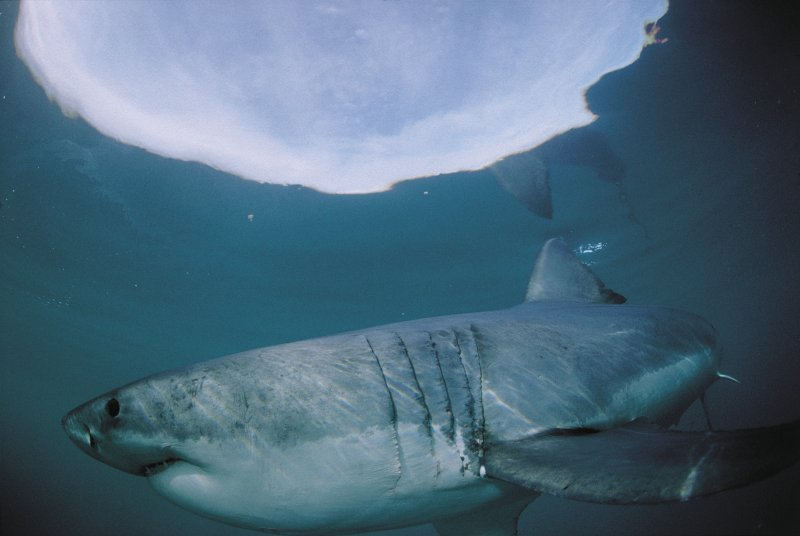Carcharodon_carcharias: (56, 244, 796, 536)
